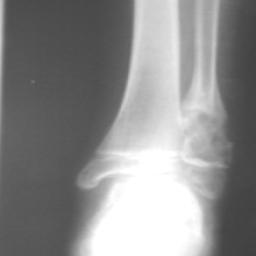cancer: (180, 106, 235, 202)
